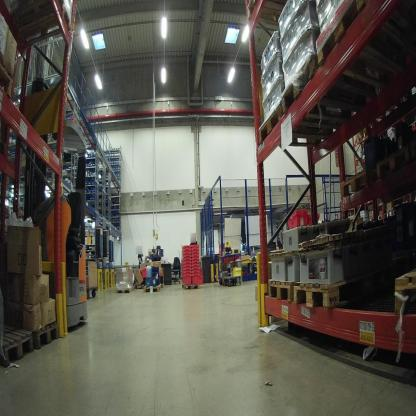forklift: (15, 114, 95, 334)
pallet: (313, 2, 415, 107), (277, 58, 391, 134), (293, 259, 392, 314), (255, 107, 354, 150), (9, 1, 75, 45), (1, 319, 65, 354), (1, 325, 37, 369), (373, 143, 407, 180), (393, 259, 415, 313), (342, 166, 373, 198), (265, 278, 293, 307), (0, 60, 17, 96), (114, 282, 135, 293), (143, 283, 163, 293), (179, 284, 201, 291), (359, 131, 368, 141), (133, 282, 144, 289), (377, 214, 387, 221), (355, 136, 362, 144)
small_load_carrier: (286, 205, 311, 234), (308, 212, 322, 229), (181, 273, 193, 285), (191, 275, 201, 285), (192, 268, 200, 275), (191, 267, 201, 271), (191, 244, 200, 248), (183, 268, 192, 272), (191, 254, 199, 258), (183, 247, 191, 251), (183, 257, 191, 261), (183, 264, 191, 268), (192, 264, 201, 267), (191, 258, 200, 261), (191, 248, 200, 251), (183, 261, 192, 264), (192, 261, 200, 264), (191, 251, 199, 254), (183, 244, 191, 247), (183, 251, 191, 254), (183, 254, 191, 257)
